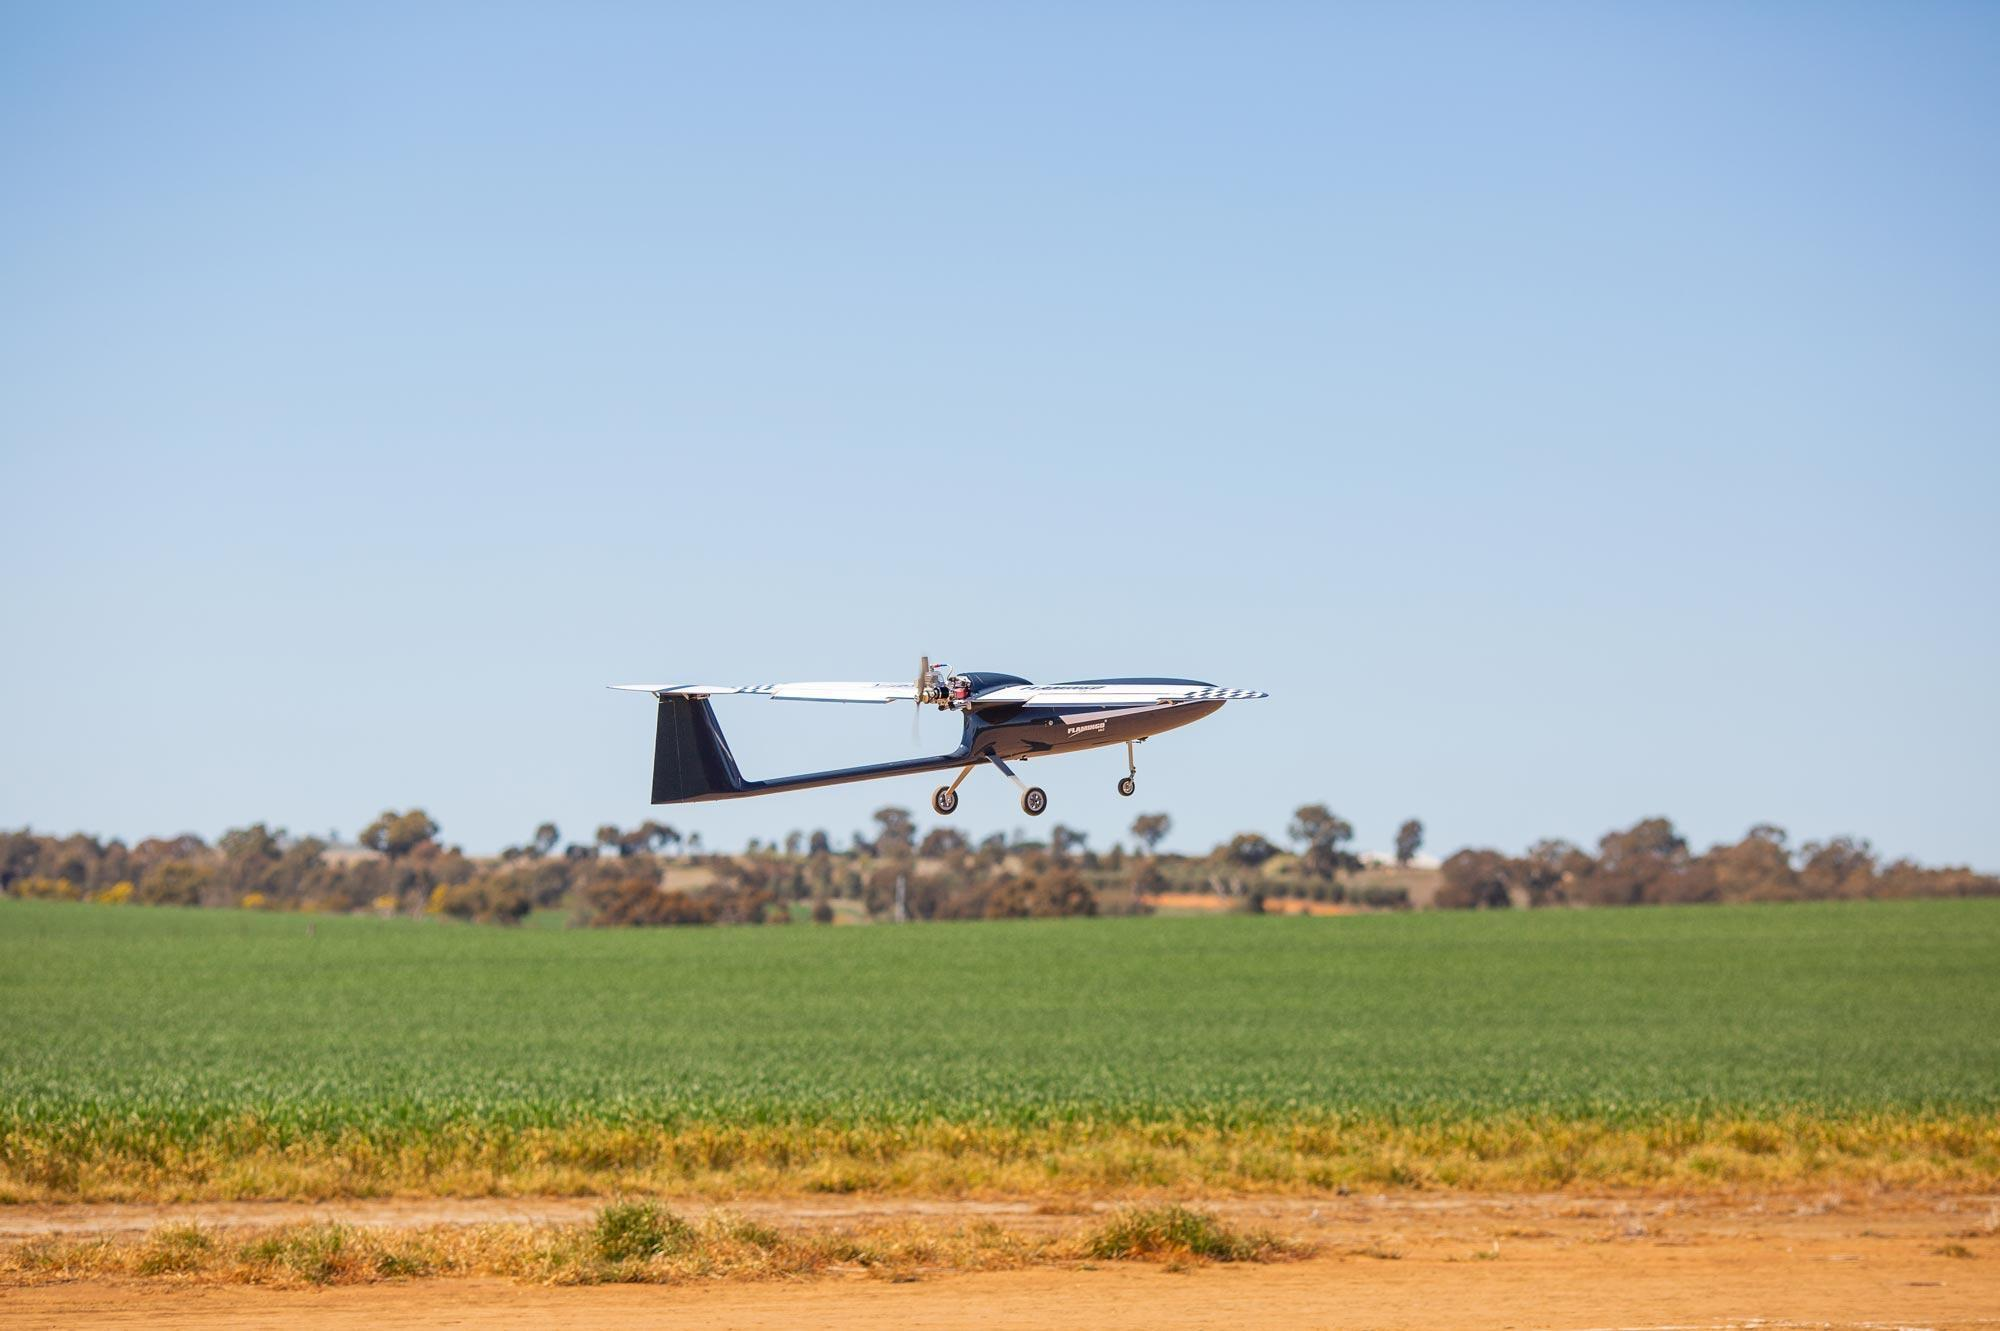Airplane: (606, 618, 1302, 836)
